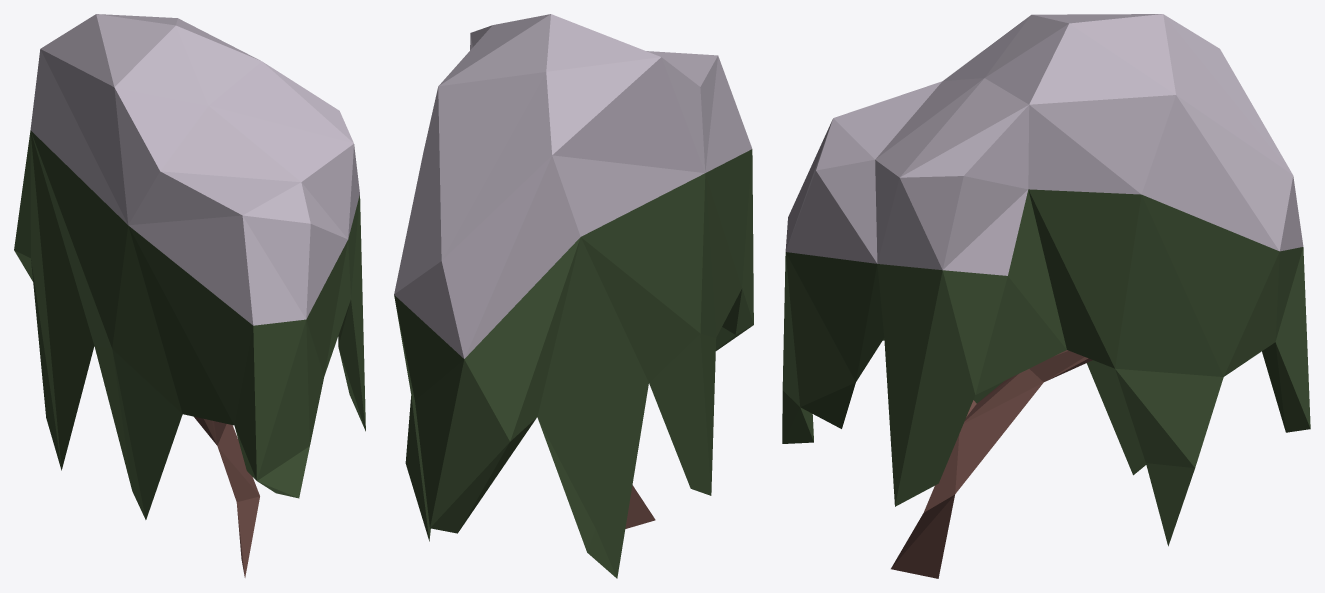
The model's file is Willow_Snow_1.lod3.glb.
3 renders of one model, left to right at view 1: azimuth 30°, elevation 25°; view 2: azimuth 150°, elevation 25°; view 3: azimuth 270°, elevation 25°, orthographic. The views are drawn at different scales.
Parts seen in each view (by area): view 1: Willow_Snow_1; view 2: Willow_Snow_1; view 3: Willow_Snow_1.
Boxes of the visible parts, box(x1,y1,x2,y2) form: Willow_Snow_1: box(14, 14, 365, 577); Willow_Snow_1: box(394, 14, 753, 578); Willow_Snow_1: box(782, 14, 1310, 578).
Size of the model in its own units: 1.4 by 2.94 by 2.56.
